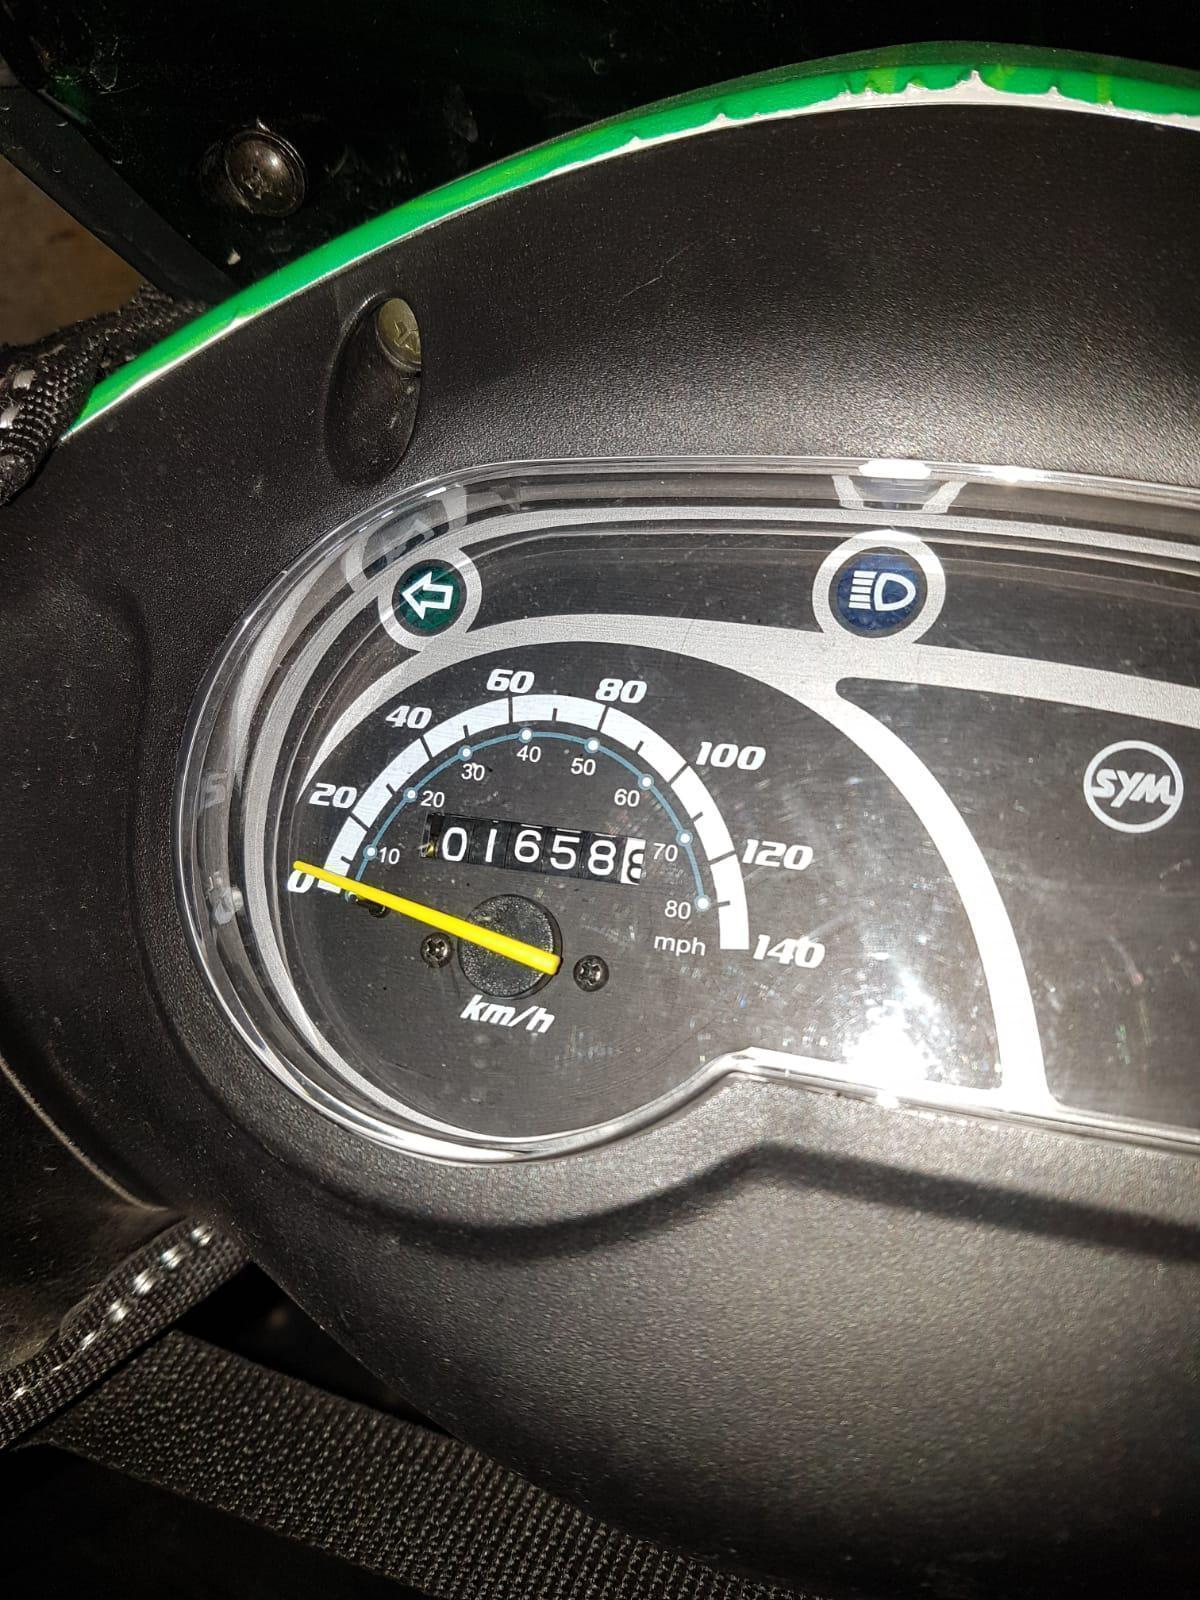0: (437, 819, 466, 864)
1: (478, 819, 498, 869)
5: (550, 831, 580, 872)
6: (512, 826, 539, 867)
8: (587, 835, 613, 877), (624, 845, 647, 884)
odometer: (417, 813, 650, 886)
